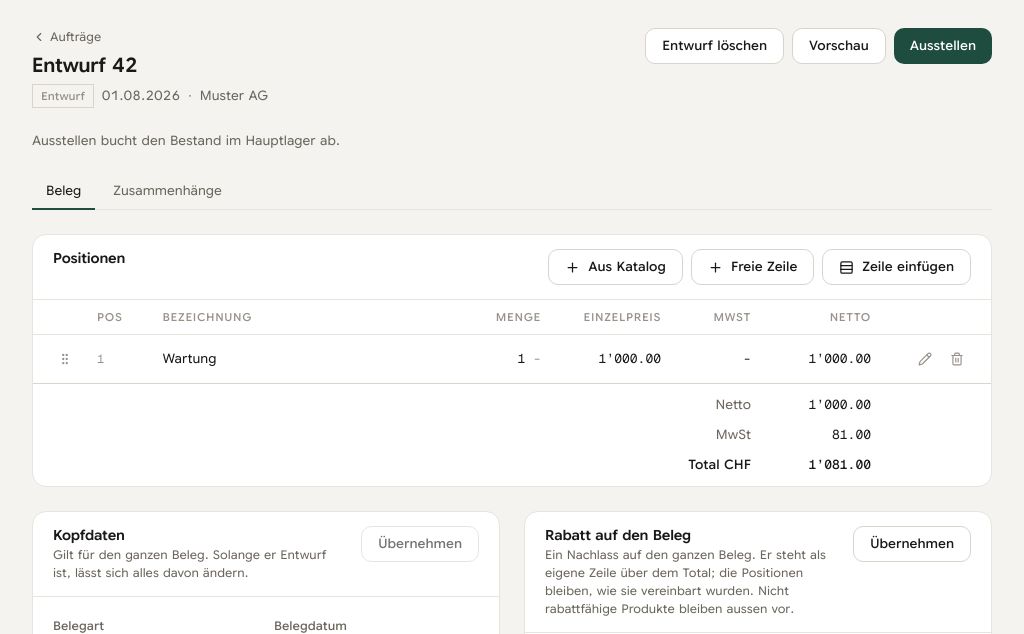
Test case: SalesDocumentPage › salesDocumentPageShowsTheStockConflictOfIssuingTest
What coordinates should you click on to do the following:
click the button "Ausstellen"
I would click on:
 (943, 46)
Its box is [894,28,992,64].
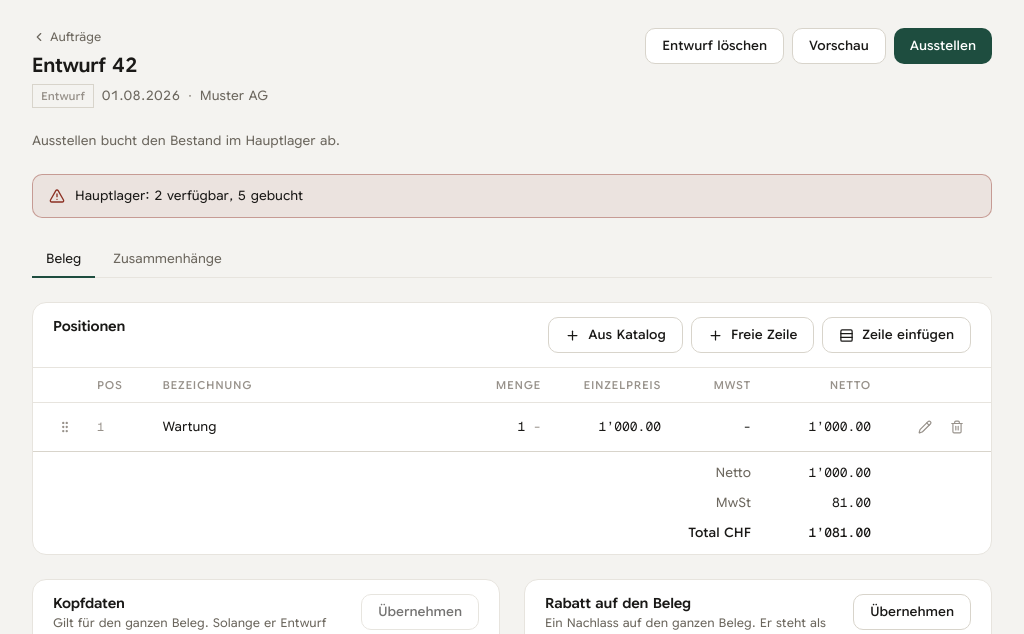
Now the text "Hauptlager: 2 verfügbar, 5 gebucht" is shown, box [75,187,303,204]
